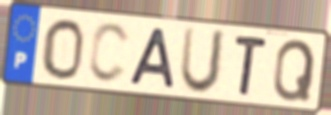A: (127, 26, 177, 91)
C: (86, 20, 132, 86)
O: (41, 17, 86, 82)
Q: (270, 37, 318, 104)
T: (232, 33, 270, 99)
U: (177, 24, 229, 98)
